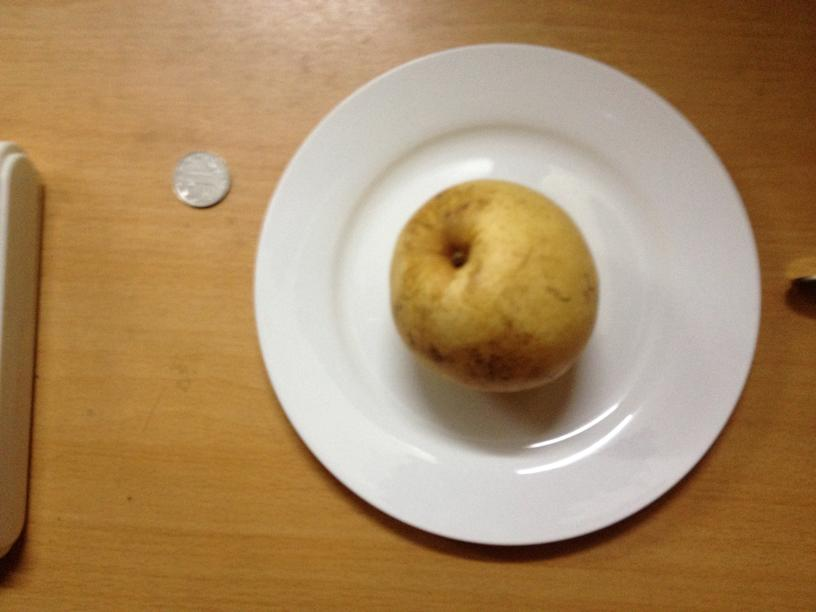coin: (171, 150, 231, 209)
pear: (394, 180, 600, 393)
